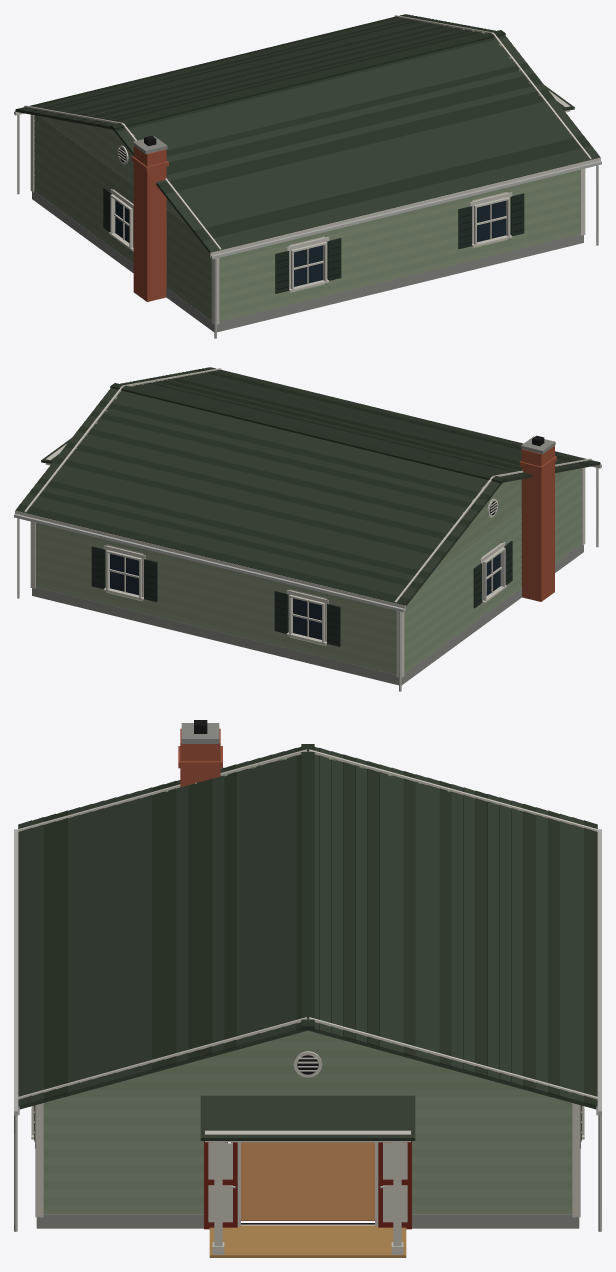
File: house-sage.glb
The picture shows the model from 3 angles, top to bottom: view 1: azimuth 30°, elevation 25°; view 2: azimuth 150°, elevation 25°; view 3: azimuth 270°, elevation 25°; orthographic projection. The views are drawn at different scales.
Parts seen in each view (by area): view 1: house-sage; view 2: house-sage; view 3: house-sage.
Part boxes in pixels (bbox=[...]): house-sage: bbox=[14, 14, 601, 338]; house-sage: bbox=[14, 367, 601, 691]; house-sage: bbox=[14, 720, 601, 1257].
Bounding box in the file's own units: 16.67 × 5.72 × 13.14.
